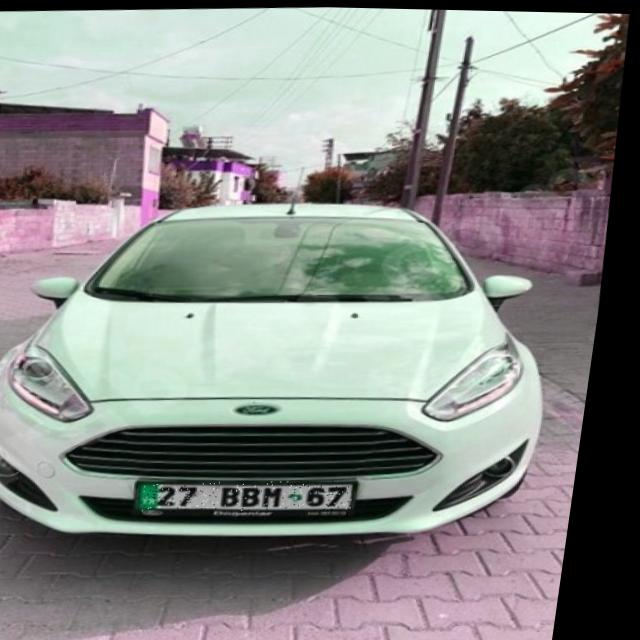license_plate: (149, 475, 369, 514)
